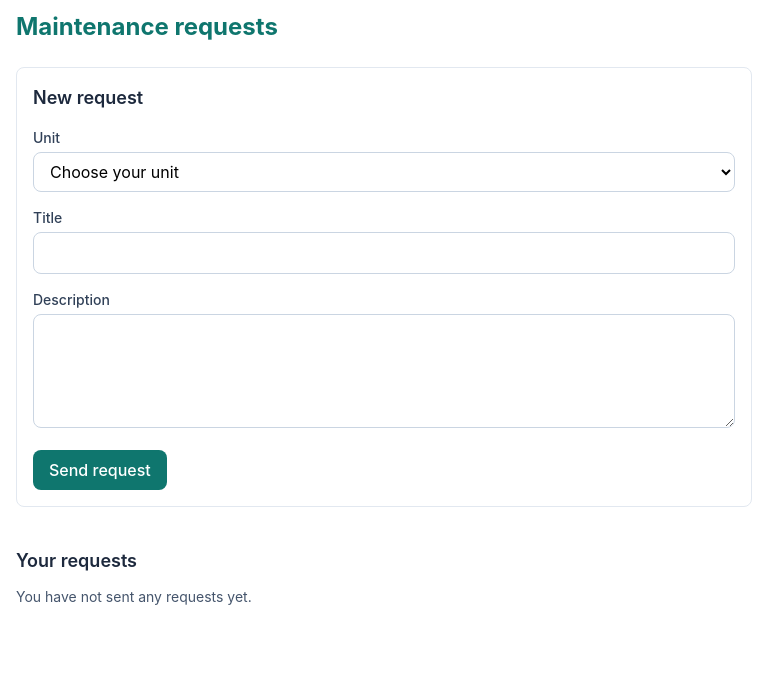
Tenant Maintenance page › shows an error when sending fails
The width and height of the screenshot is (769, 682).
Select "A1 - Sunrise" in the dropdown labelled "Unit". click: x=384, y=172
box: [33,152,735,192]
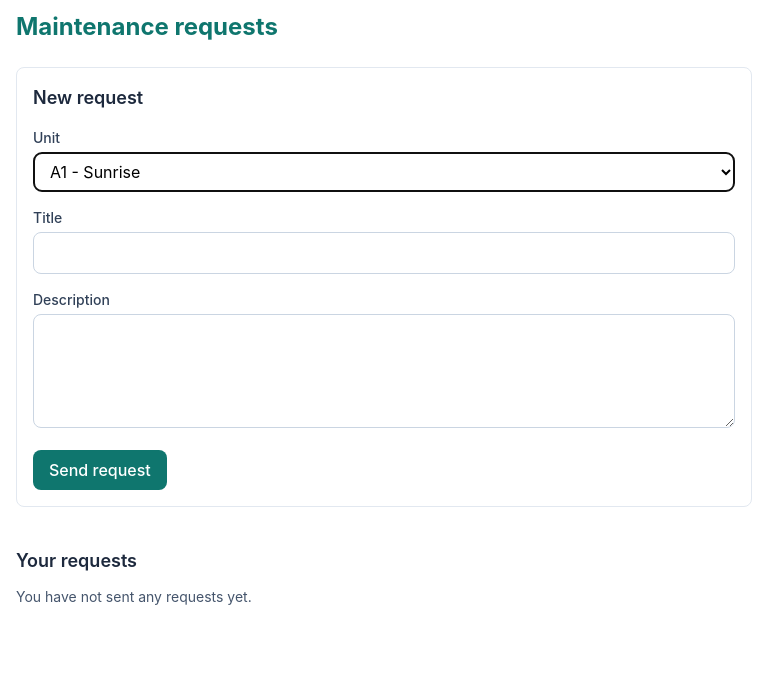
Type "Leaking tap" into the field labelled "Title". click: x=384, y=253
box: [33,232,735,274]
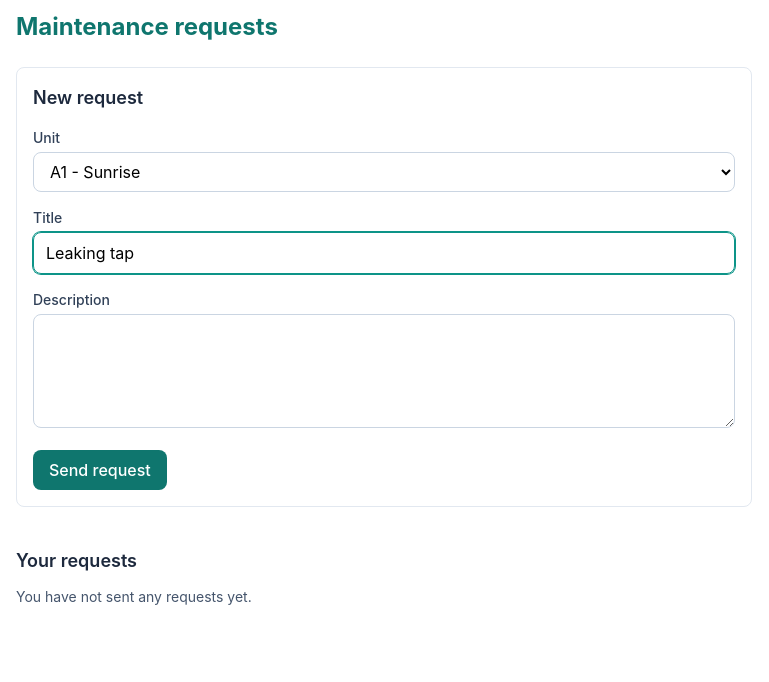
Type "Kitchen tap drips" into the text box labelled "Description". click: x=384, y=371
box: [33,314,735,428]
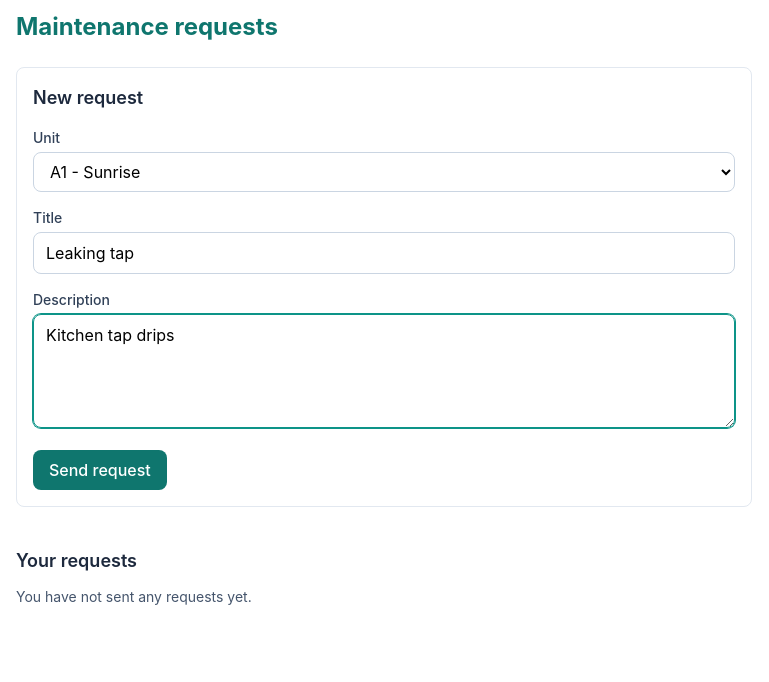
Click the button "Send request". click: x=100, y=470
box: [33,450,167,490]
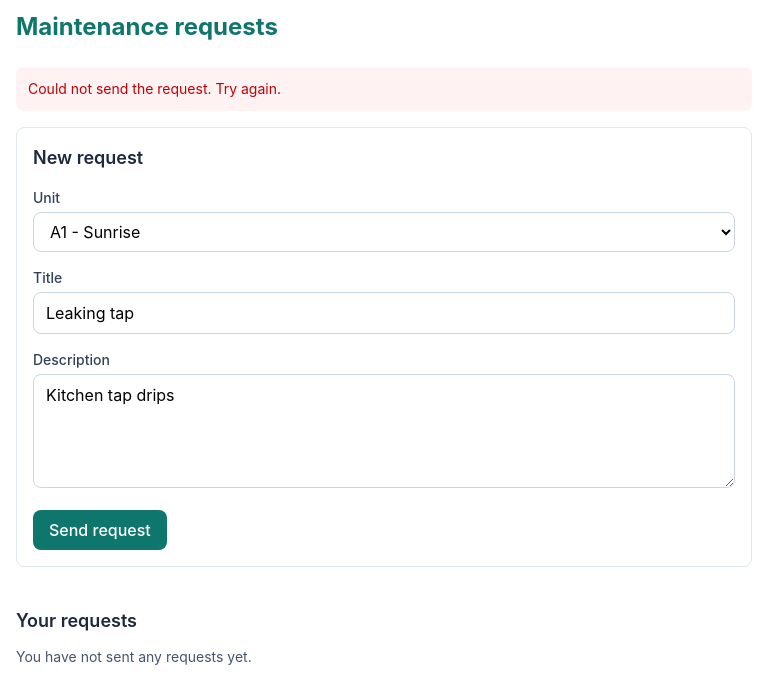
Result: the message shows "Could not send the request" at [28,80,281,97]
